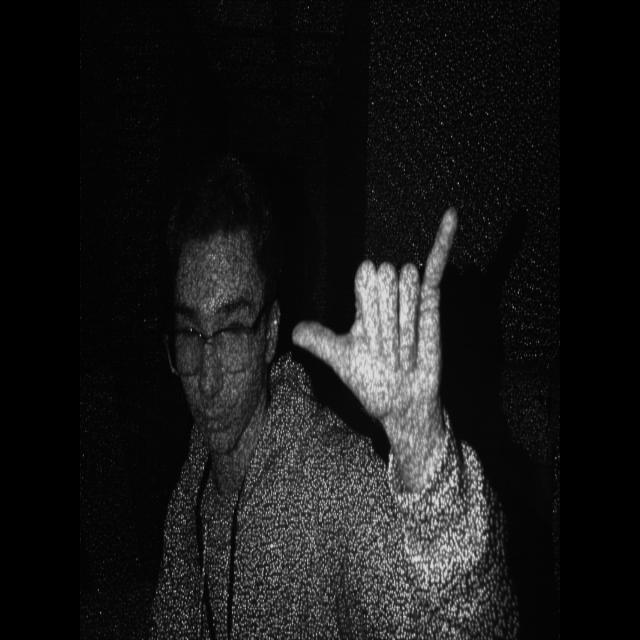Y: (292, 200, 474, 412)
